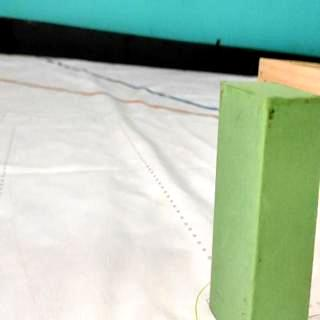greenbox: (207, 76, 320, 320)
